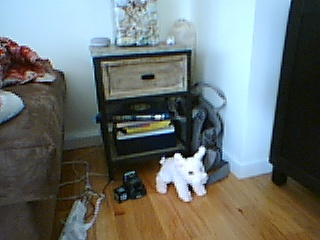piggy: (153, 146, 210, 202)
